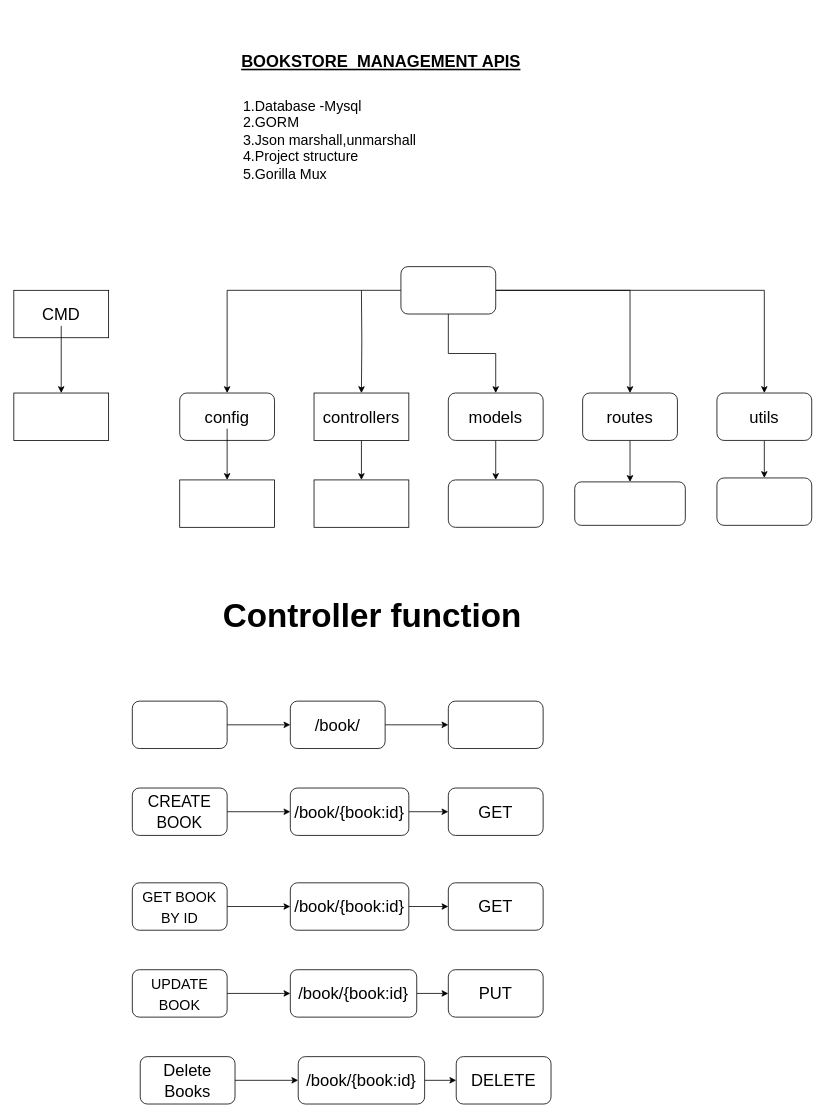
The diagram is 826 pixels wide and 1118 high, and some of its shapes have lost their labels. The shapes that lost their labels are listed below. From the top down, each one's centre as x and y in pixels, then its label:
At pixel 448 290: "PKG".
At pixel 61 416: "main.go".
At pixel 227 503: "APP.GO".
At pixel 361 503: "Book Controller".
At pixel 495 503: "BOOK.GO".
At pixel 629 503: "BOOKSTORE Route".
At pixel 764 501: "UTILS.GO".
At pixel 179 724: "GetBooks".
At pixel 495 724: "post".
